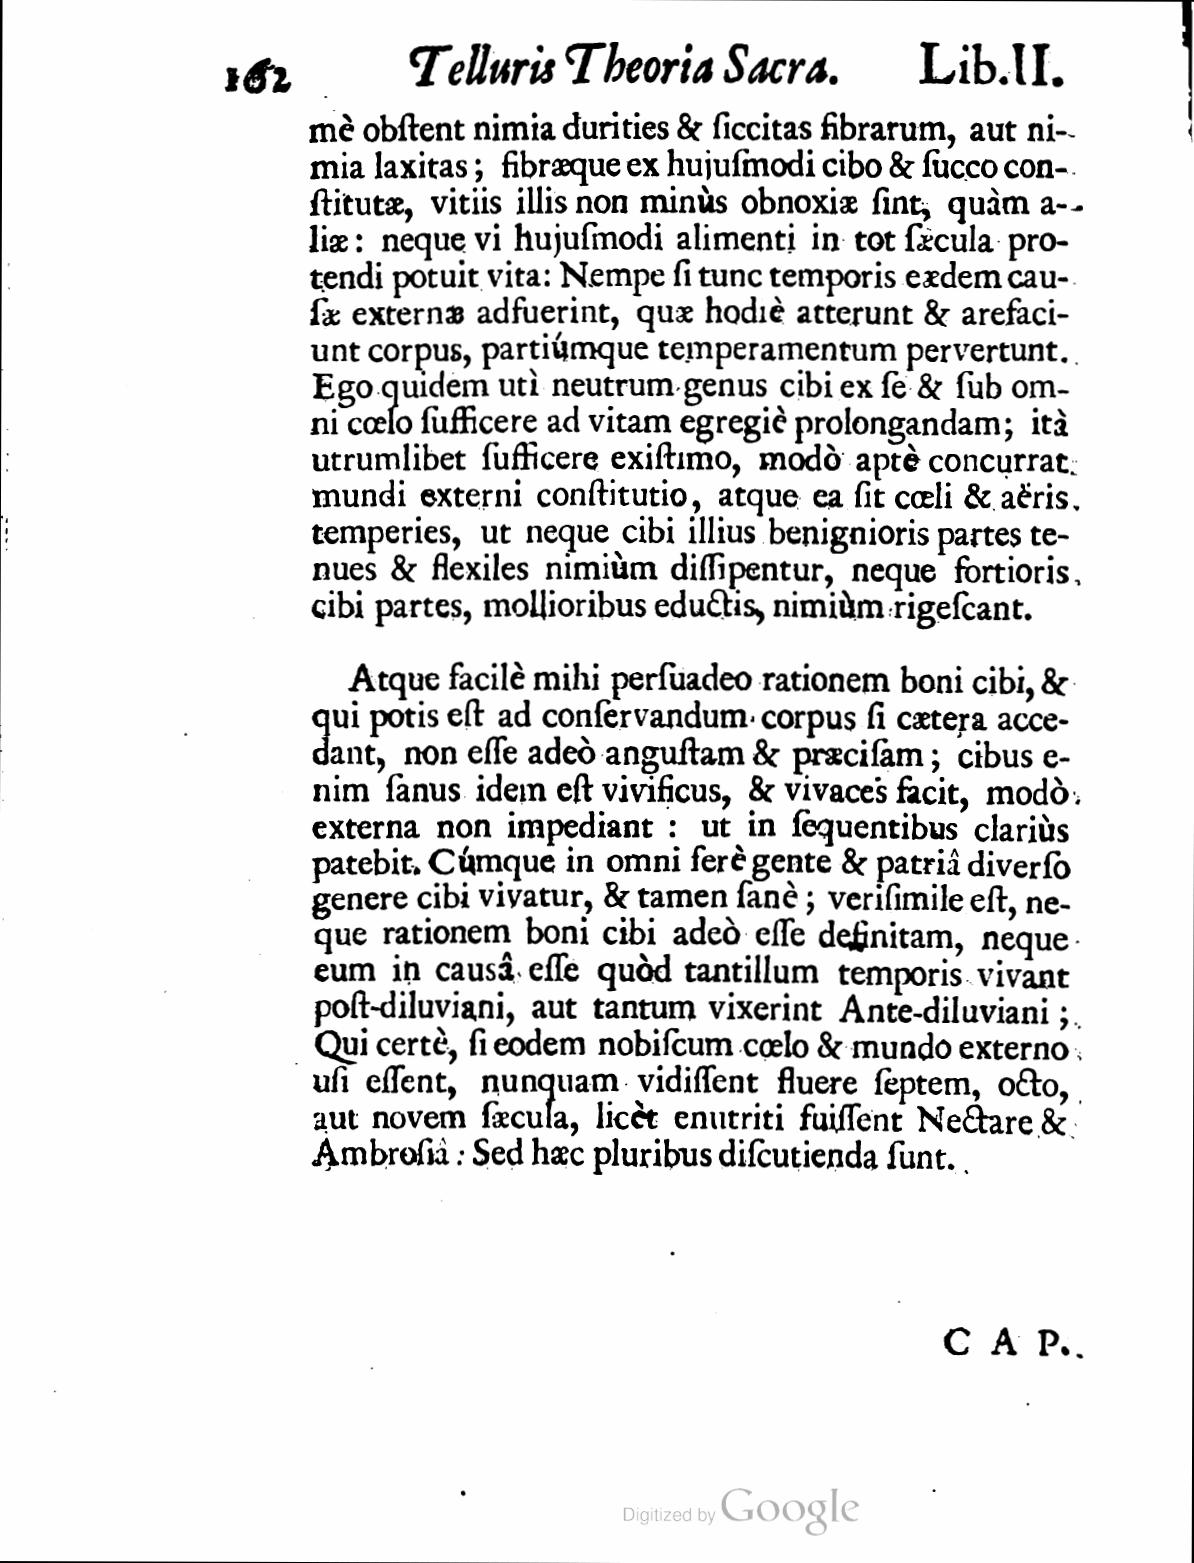bottom_p: (304, 107, 1086, 630)
catchword: (934, 1312, 1074, 1366)
full_p: (306, 660, 1080, 1178)
header: (406, 33, 1069, 102)
page_num: (212, 54, 302, 100)
